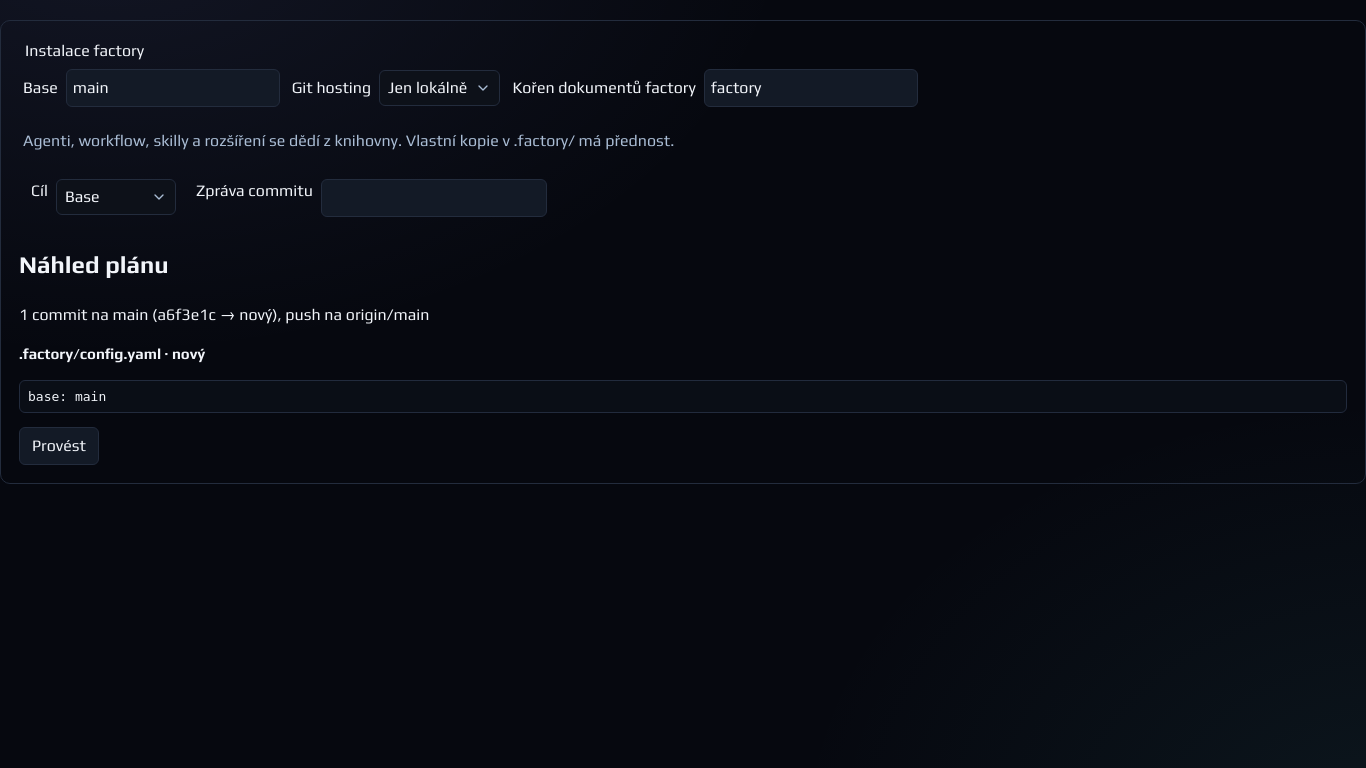
Test: Factory operations › shows rejected push and opens PR with the same digest and new confirmation
The width and height of the screenshot is (1366, 768).
Click the button with test id "factory-perform".
click(59, 446)  # box [19,427,99,465]
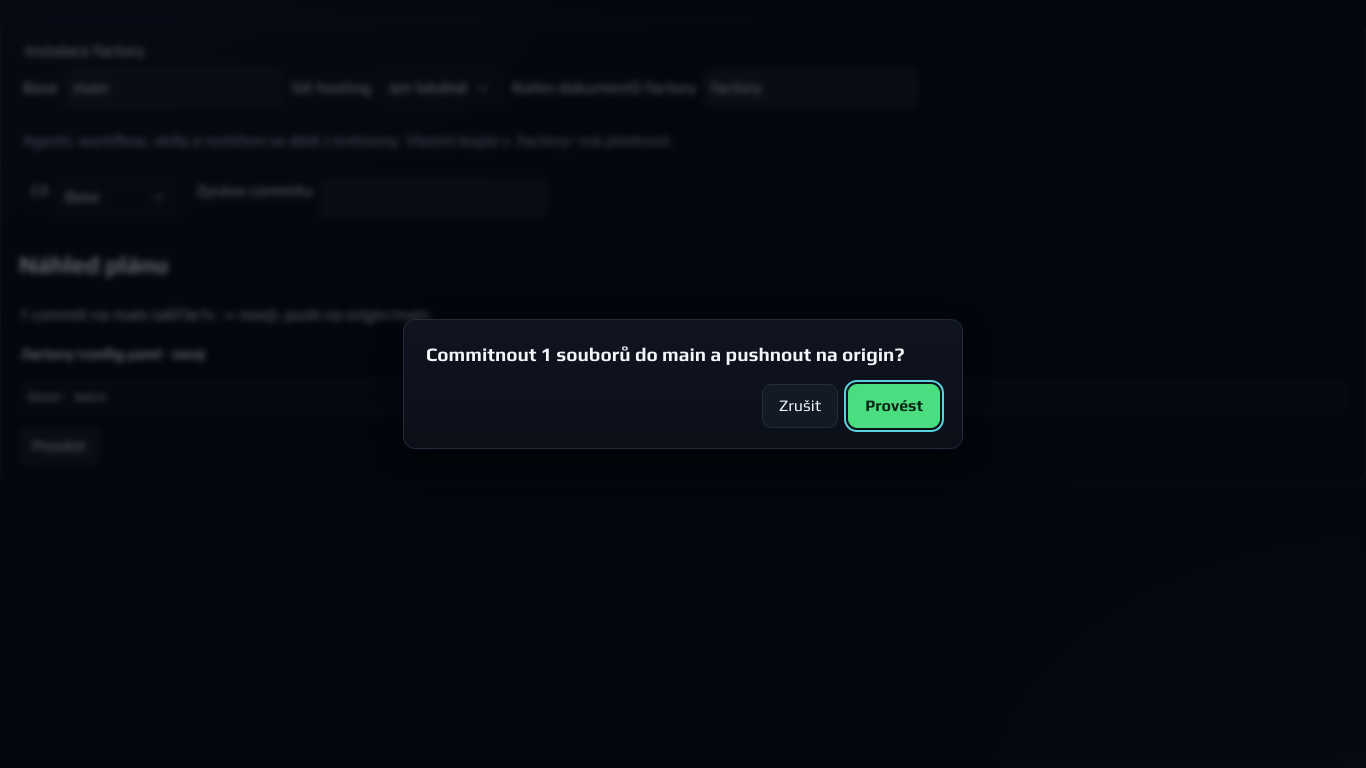
Click the button with test id "confirm-ok".
click(894, 406)  # box [848,384,940,428]
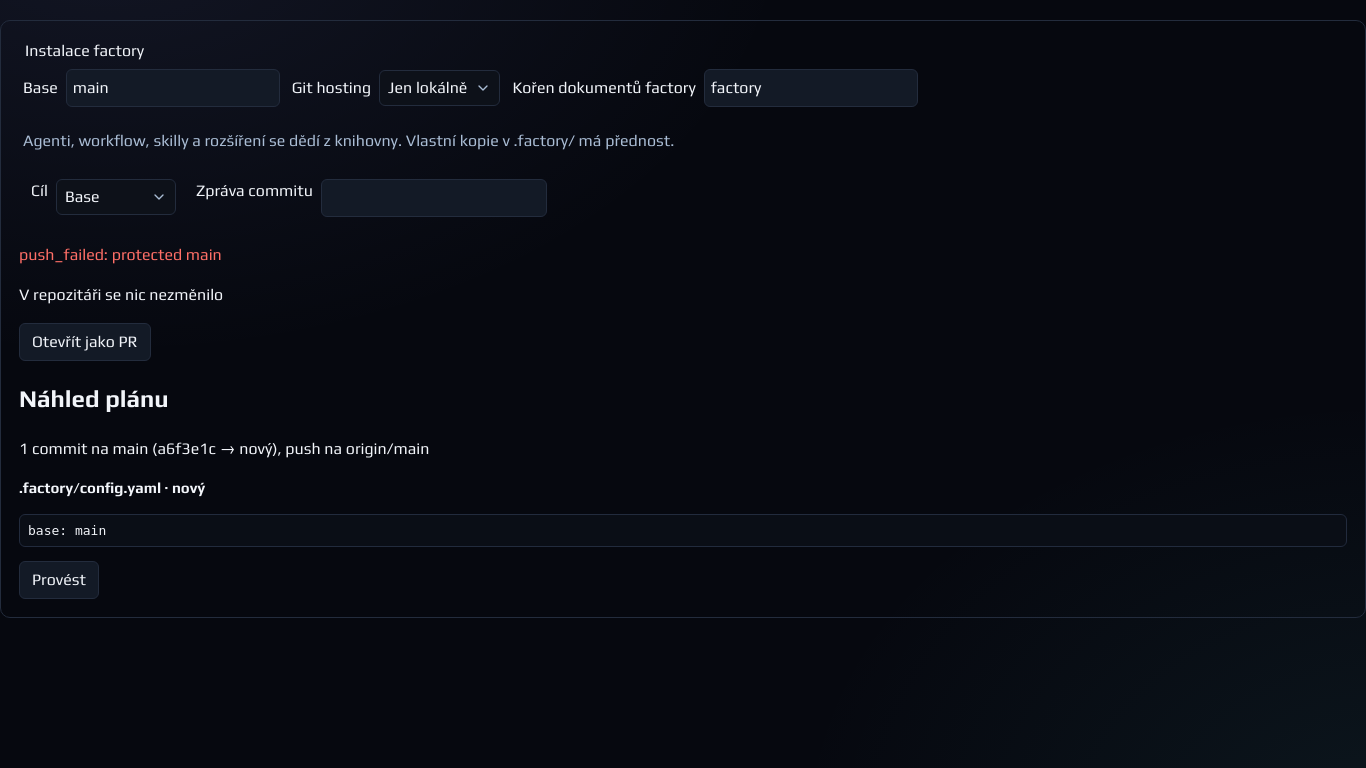
Result: the text "protected main" is shown at [19,245,222,264]
Result: the text "V repozitáři se nic nezměnilo" is shown at [19,285,223,304]
Click the button with test id "factory-pr".
click(85, 342)  # box [19,323,151,361]
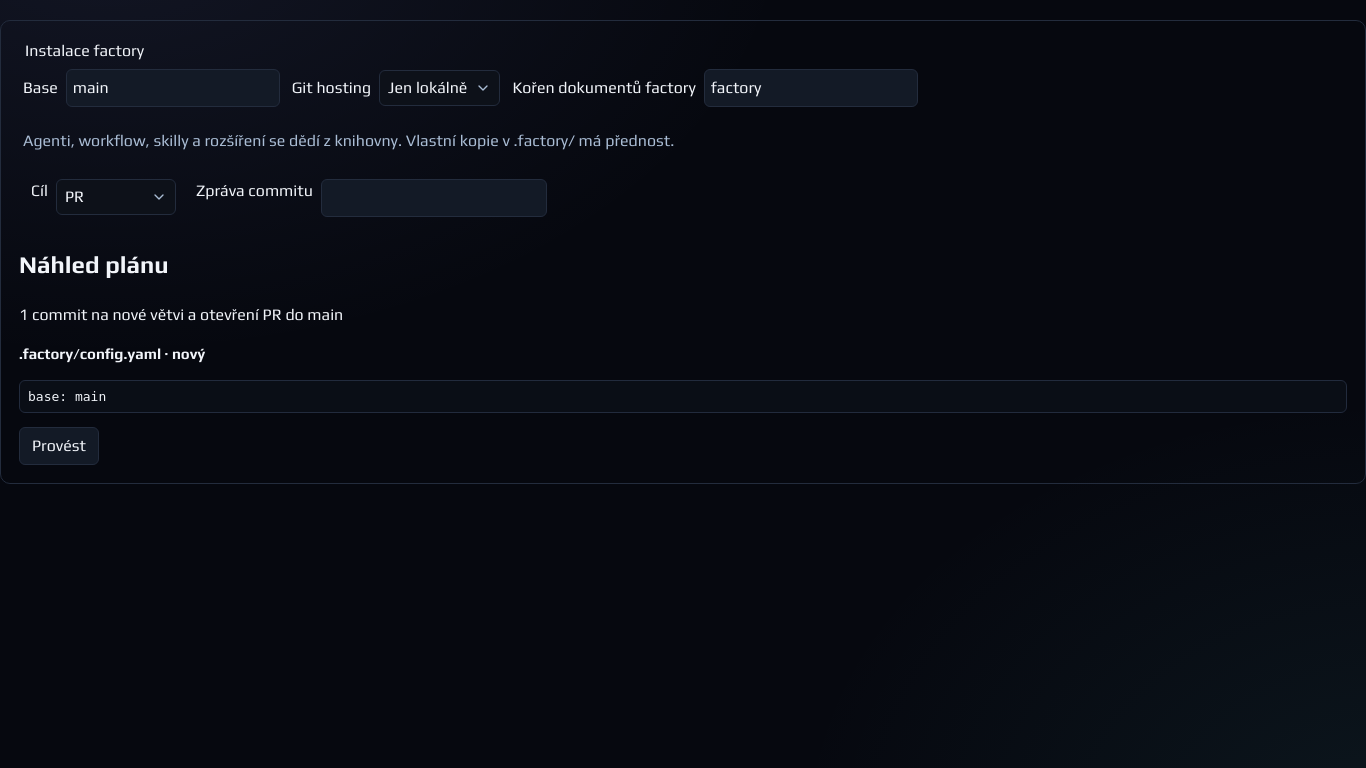
Click the button with test id "factory-perform".
click(59, 446)  # box [19,427,99,465]
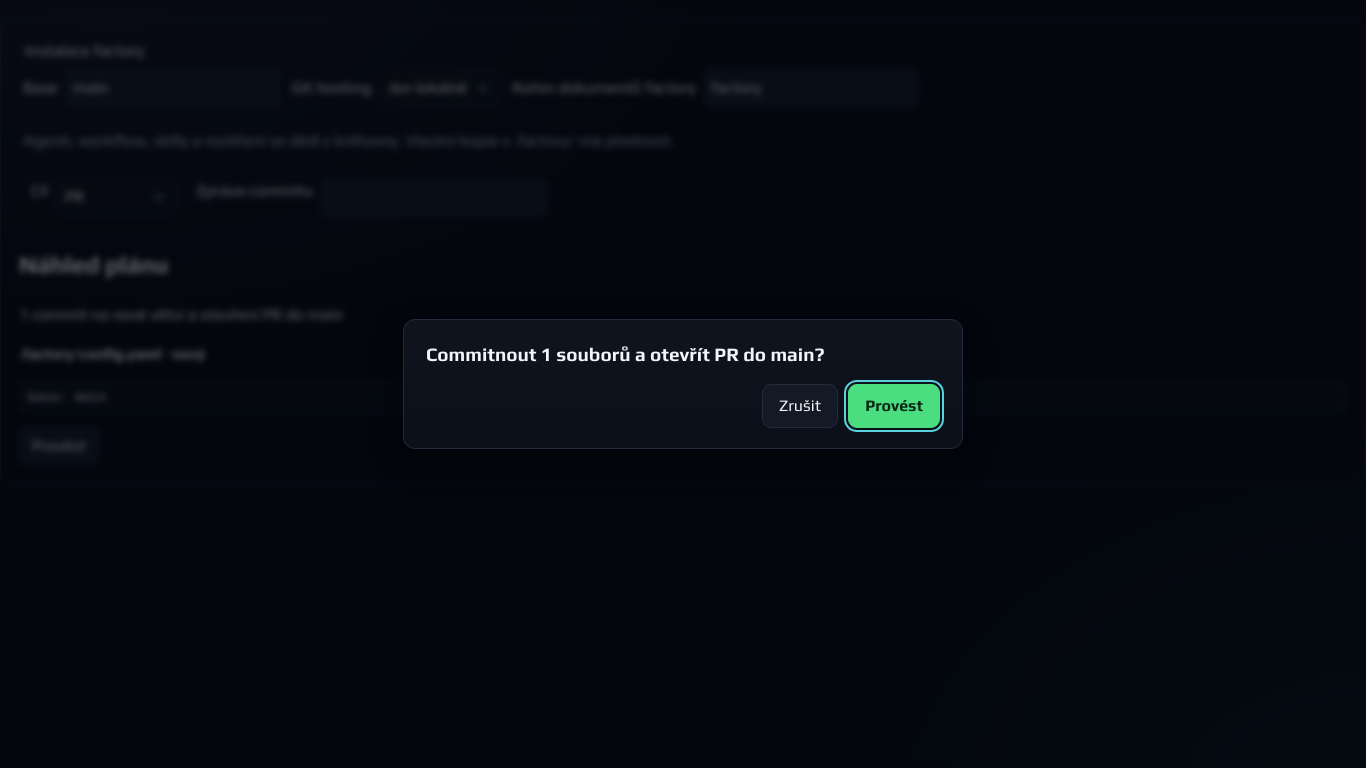
Click the button with test id "confirm-ok".
click(894, 406)  # box [848,384,940,428]
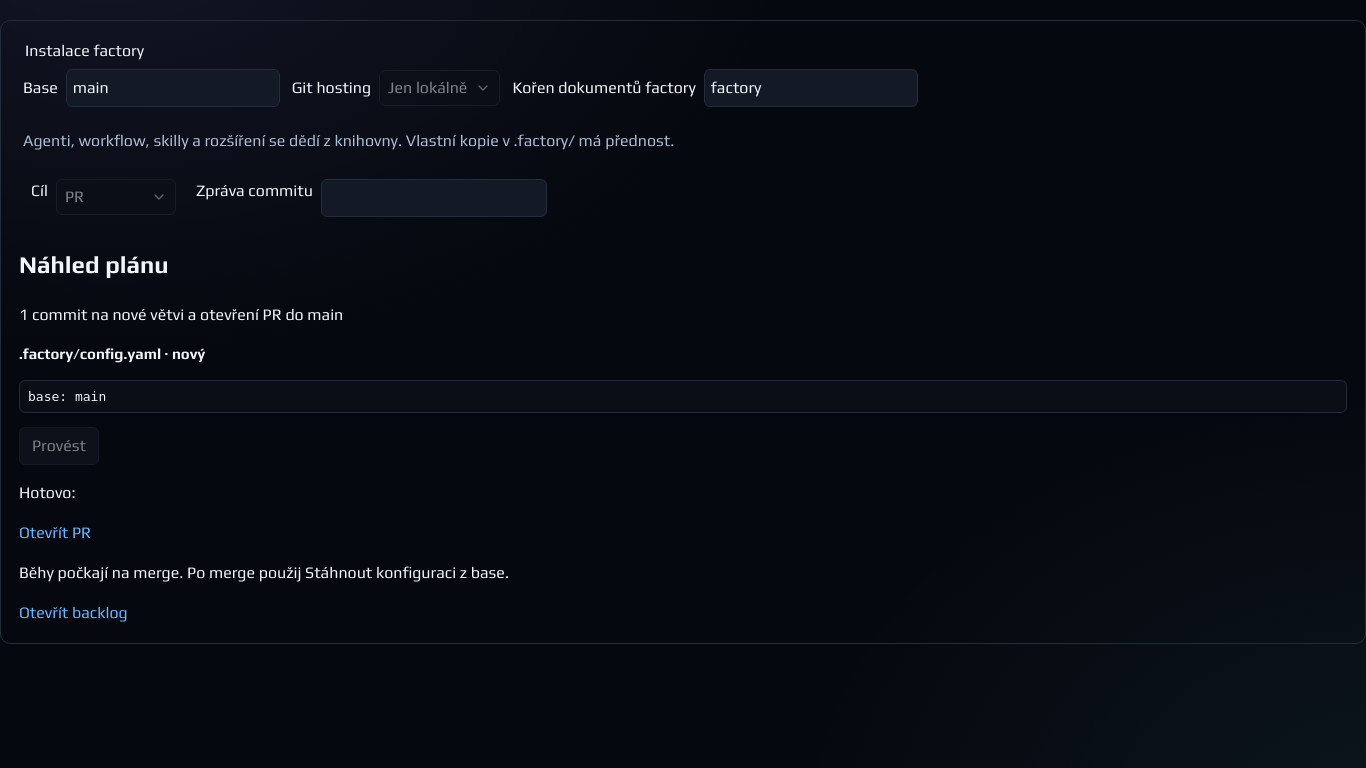
Result: the text "Běhy počkají na merge" is shown at [19,563,509,582]
